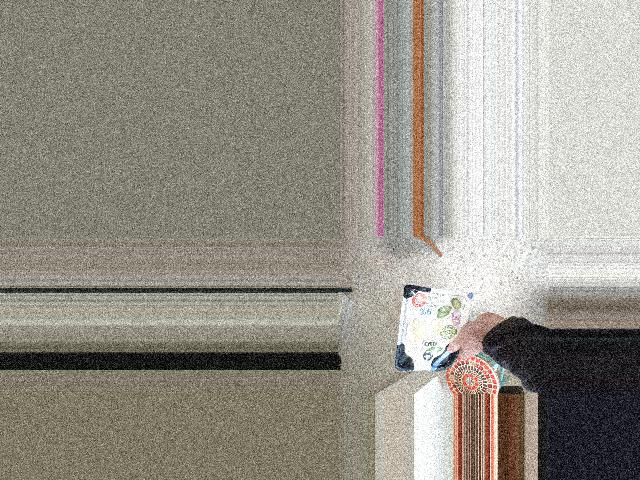cheese: (419, 286, 485, 359)
